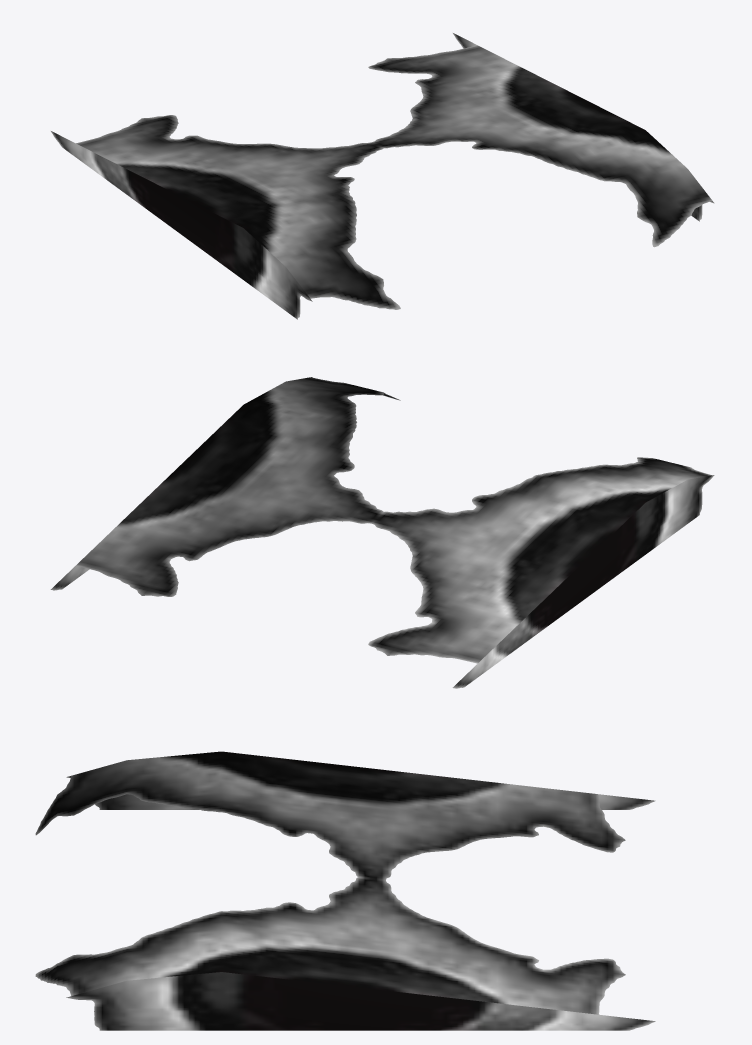
The model's file is shejidian(2).FBX.
3 views of the same model, one above another, from view 1: azimuth 30°, elevation 25°; view 2: azimuth 150°, elevation 25°; view 3: azimuth 270°, elevation 25° (orthographic). The views are drawn at different scales.
Parts seen in each view (by area): view 1: Box02; view 2: Box02; view 3: Box02.
Part boxes in pixels (x1=…): Box02: x1=51, y1=33, x2=714, y2=319; Box02: x1=50, y1=377, x2=714, y2=688; Box02: x1=35, y1=751, x2=655, y2=1030.
Size of the model in its own units: 32.66 by 45.32 by 4.04.
